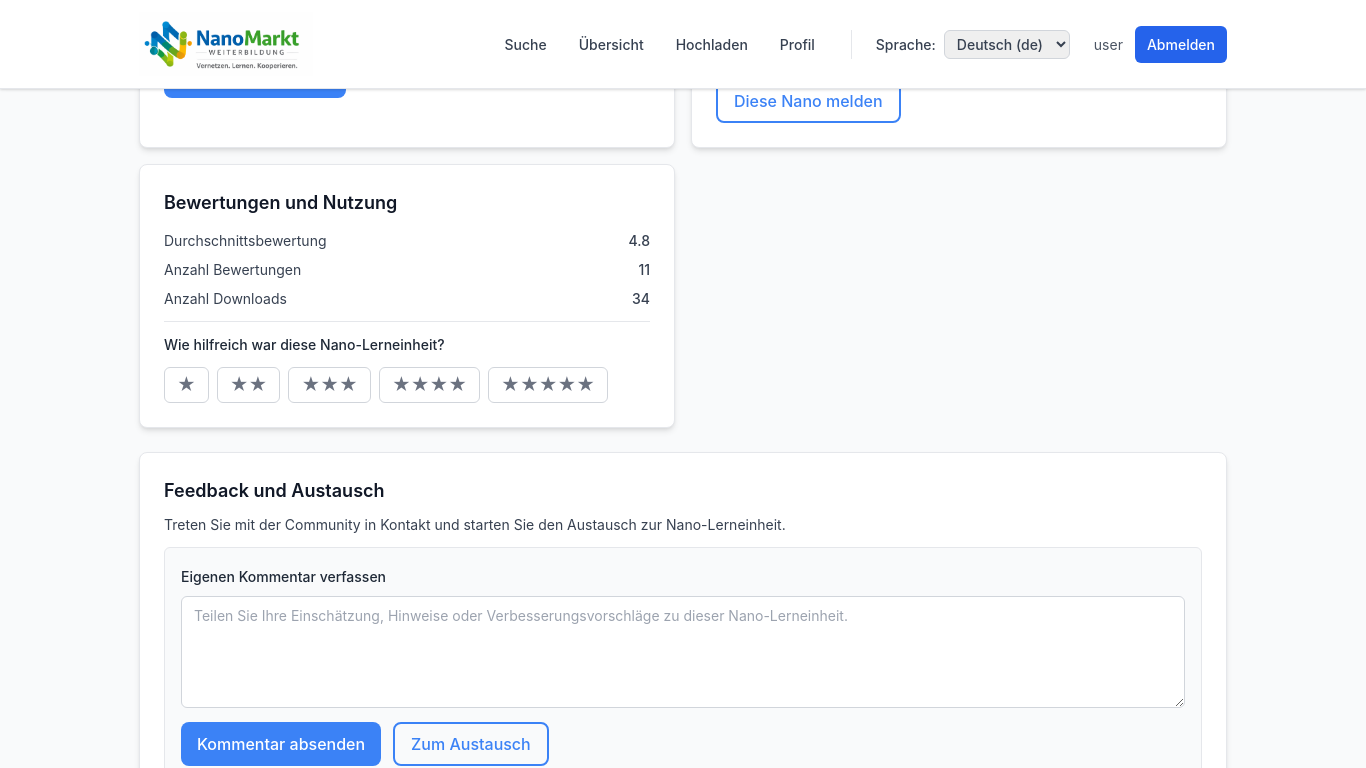
Test: NanoDetailsPage › submits feedback and shows pending moderation state
(page scrolled)
Click the button named "Bewertung auswählen: 5". click: (548, 385)
box: [488,367,608,403]
(page scrolled)
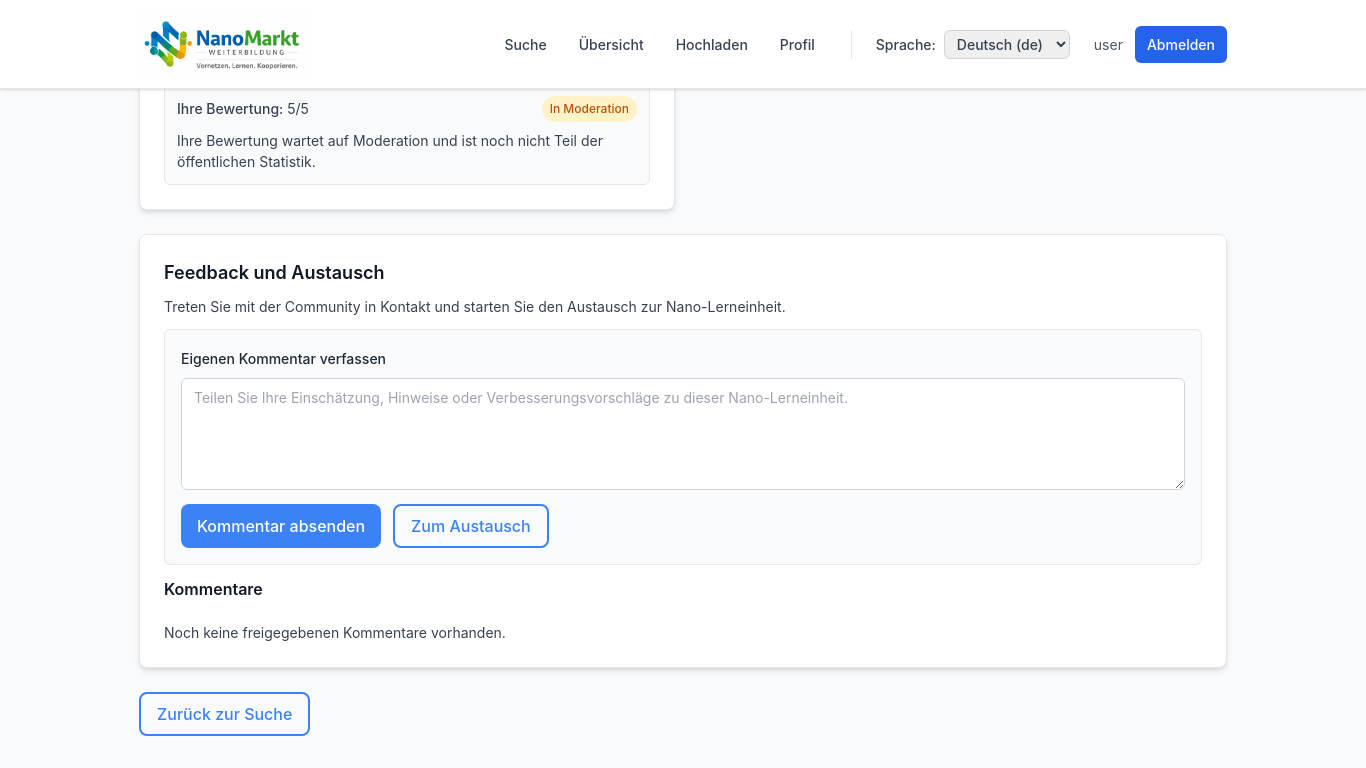
Expected: the text "Ihre Bewertung wurde gespeichert und wartet auf Moderation, bevor sie öffentlich gezählt wird." is shown, [164,31,641,69]
Now the text "Ihre Bewertung:" is shown, box [177,100,283,118]
Now the text "In Moderation" is shown, box [542,96,637,122]
Replace the text in the text box labelled "Eigenen Kommentar verfassen" with "Bitte noch Beispiele fuer Hooks ergaenzen.". click: (683, 434)
box: [181,378,1185,490]
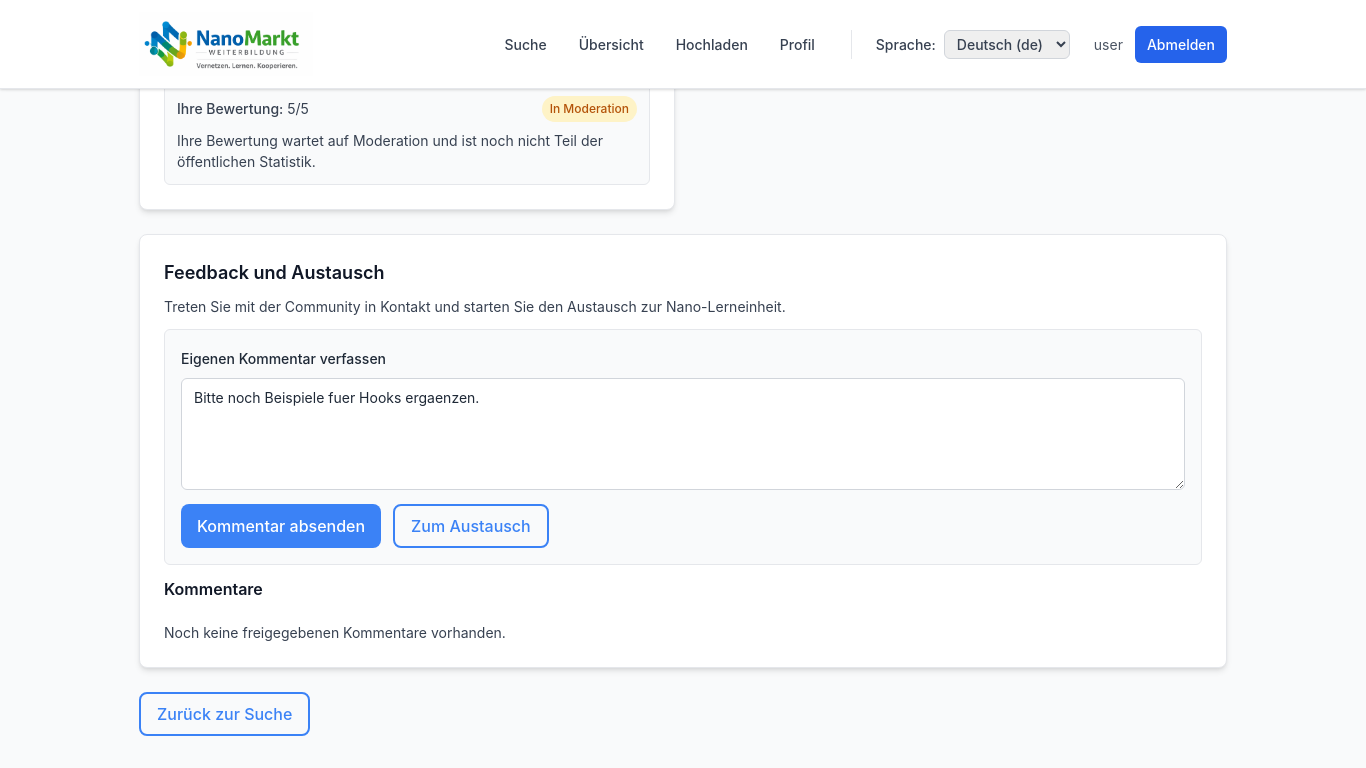
Click the button "Kommentar absenden". click: (281, 526)
box: [181,504,381,548]
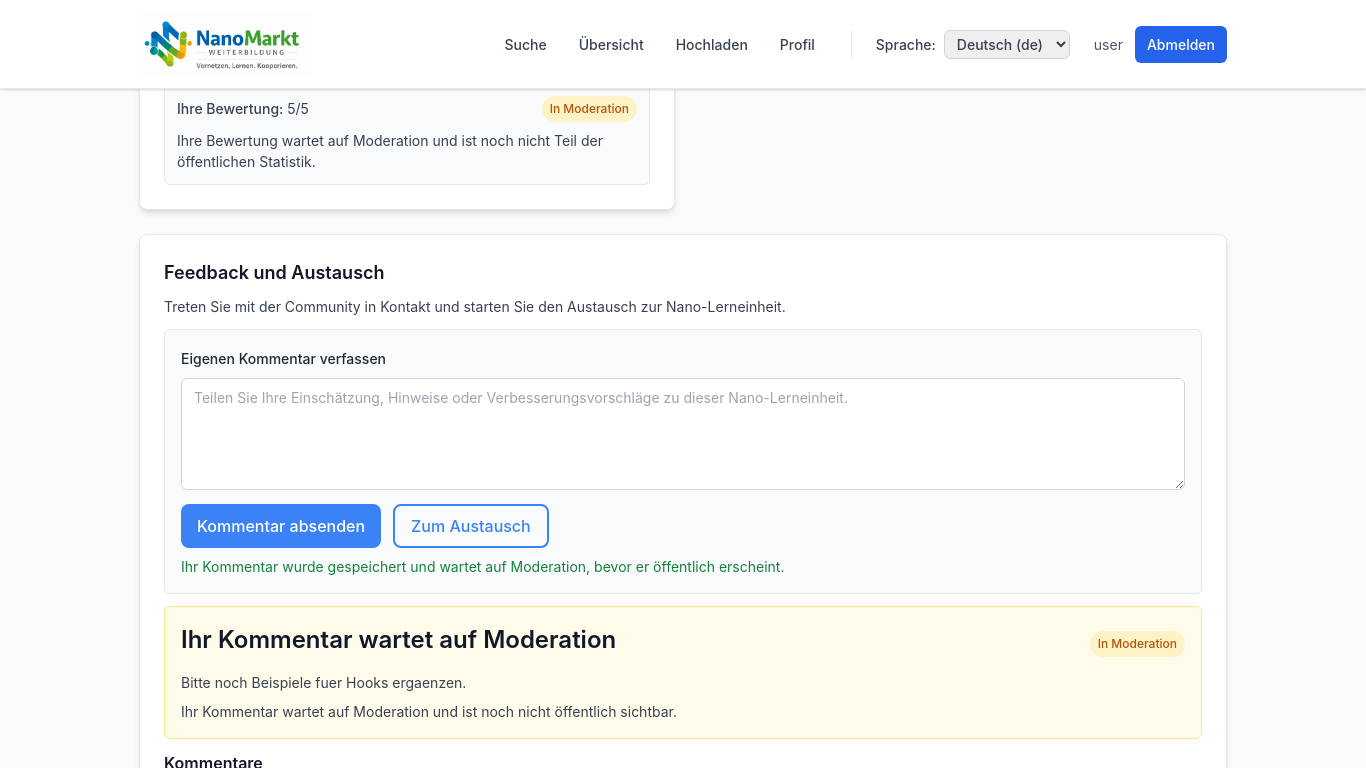
Now the text "Ihr Kommentar wurde gespeichert und wartet auf Moderation, bevor er öffentlich erscheint." is shown, box [181,558,784,575]
Now the heading "Ihr Kommentar wartet auf Moderation" is shown, box [181,623,616,656]
Now the text "Bitte noch Beispiele fuer Hooks ergaenzen." is shown, box [181,674,466,691]
